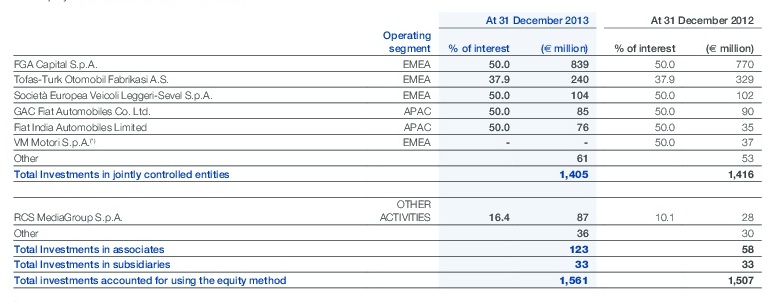table: (0, 0, 778, 302)
